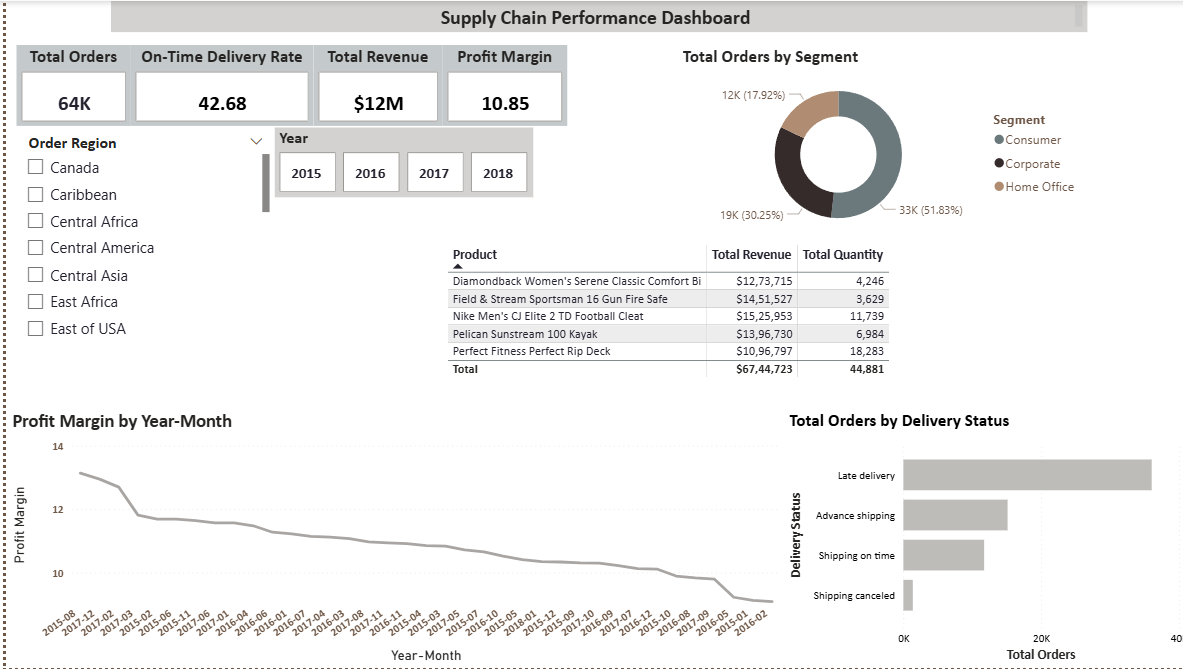

This screenshot's page, from the dashboard's own definition file:
{"tool":"powerbi","page":{"name":"Executive Summary","canvas":[1280,720],"ordinal":0},"visuals":[{"type":"textbox","box":[113.5,0,1053.8,34.9],"z":0},{"type":"cardVisual","title":"Total Orders","fields":{"Data":["Calendar.Total Orders"]},"box":[11.3,48.6,123.1,87.4],"z":1000},{"type":"lineChart","fields":{"Y":["Calendar.Profit Margin"],"Category":["Calendar.Year-Month"]},"box":[1.5,442.5,838.4,278],"z":2000},{"type":"cardVisual","title":"On-Time Delivery Rate","fields":{"Data":["Calendar.On-Time Delivery Rate"]},"box":[134.4,48.6,197.5,87.4],"z":3000},{"type":"cardVisual","title":"Total Revenue","fields":{"Data":["DAX.Total Revenue"]},"box":[331.9,48.6,139.3,87.4],"z":4000},{"type":"cardVisual","title":"Profit Margin","fields":{"Data":["Calendar.Profit Margin"]},"box":[471.2,48.6,134.4,87.4],"z":5000},{"type":"donutChart","fields":{"Category":["Orders.Segment"],"Y":["Calendar.Total Orders"]},"box":[724.9,48,442.5,212.5],"z":6000},{"type":"barChart","fields":{"Category":["Orders.Delivery Status"],"Y":["Calendar.Total Orders"]},"box":[840.4,442,440.4,278.5],"z":7000},{"type":"tableEx","fields":{"Values":["Orders.Product","DAX.Total Revenue","Calendar.Total Quantity"]},"box":[471.2,259.1,809.6,168.4],"z":8000},{"type":"slicer","fields":{"Values":["Orders.Order Region"]},"box":[11.5,137.2,278.2,238.5],"z":9000},{"type":"advancedSlicerVisual","fields":{"Values":["Calendar.Year"]},"box":[290,138.3,279,75],"z":10000}]}

Visuals, with their boxes in screenshot pixels (x1, y1, x2, y2), scaled from the page's 1280x720 canvas onto the 1183x669 screenshot:
textbox: 105/0/1079/32
"Total Orders" cardVisual: 10/45/124/126
lineChart - Calendar.Profit Margin x Calendar.Year-Month: 1/411/776/668
"On-Time Delivery Rate" cardVisual: 124/45/307/126
"Total Revenue" cardVisual: 307/45/435/126
"Profit Margin" cardVisual: 435/45/560/126
donutChart - Orders.Segment x Calendar.Total Orders: 670/45/1079/242
barChart - Orders.Delivery Status x Calendar.Total Orders: 777/411/1182/668
tableEx - Orders.Product x DAX.Total Revenue: 435/241/1182/397
slicer - Orders.Order Region: 11/127/268/349
advancedSlicerVisual - Calendar.Year: 268/129/526/198
